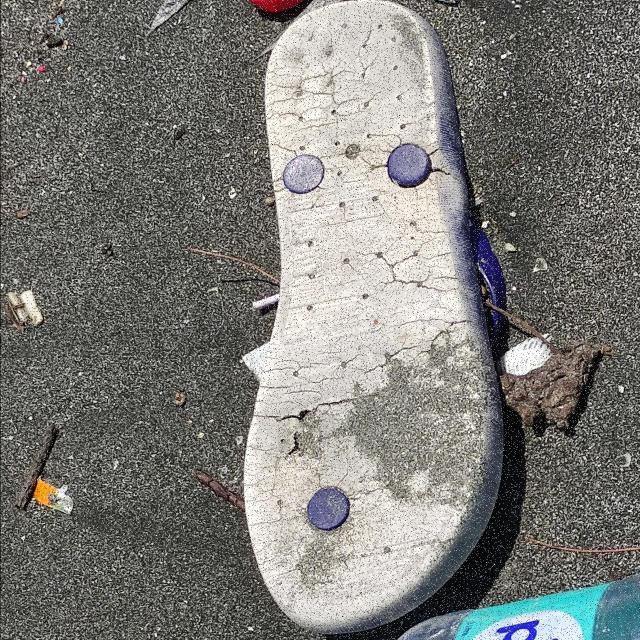rubber_waste: (246, 7, 519, 631)
